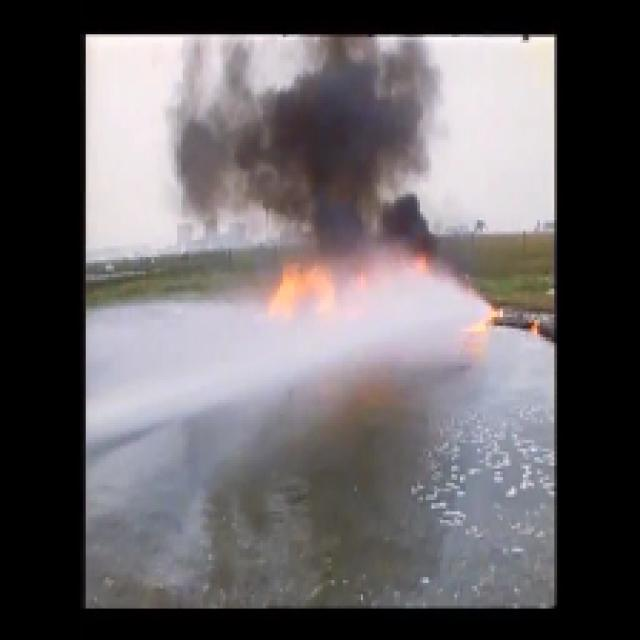smoke: (185, 107, 346, 196)
